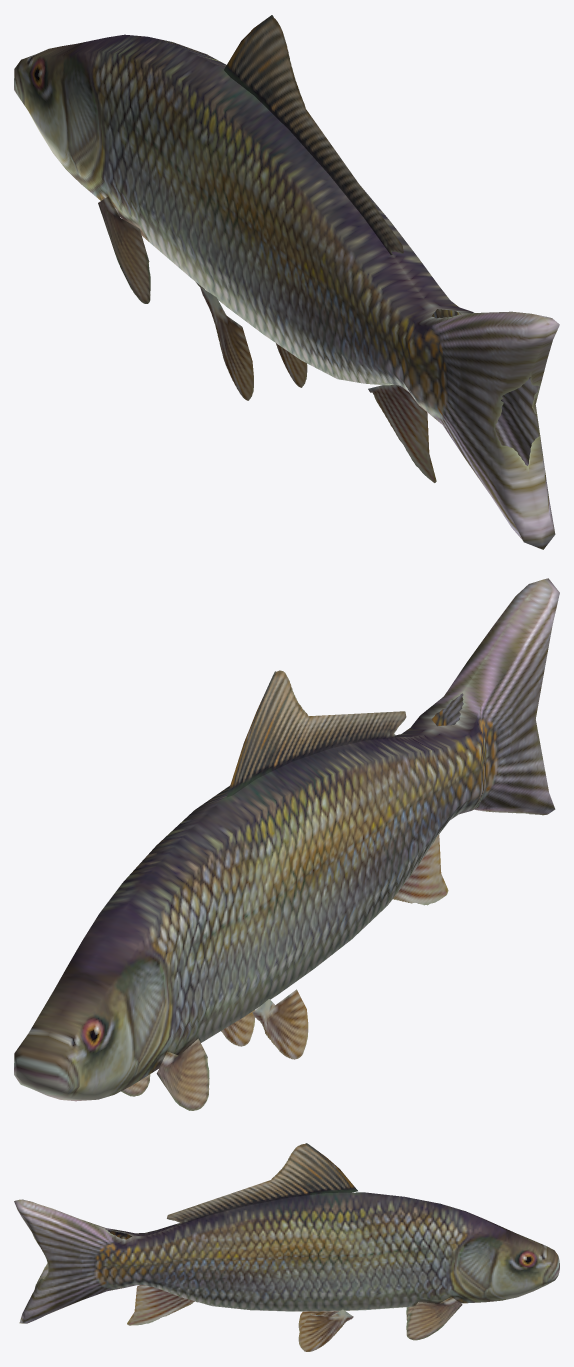
Rendered from fish_modified.fbx.
The picture shows the model from 3 angles, top to bottom: view 1: azimuth 30°, elevation 25°; view 2: azimuth 150°, elevation 25°; view 3: azimuth 270°, elevation 25°; orthographic projection. The views are drawn at different scales.
Visible parts, largest first — view 1: fish; view 2: fish; view 3: fish.
Part boxes in pixels (<box>): fish: <box>14,15,559,549</box>; fish: <box>14,578,559,1110</box>; fish: <box>14,1143,559,1351</box>.
Bounding box in the file's own units: 2.56 × 13.44 × 32.71.
